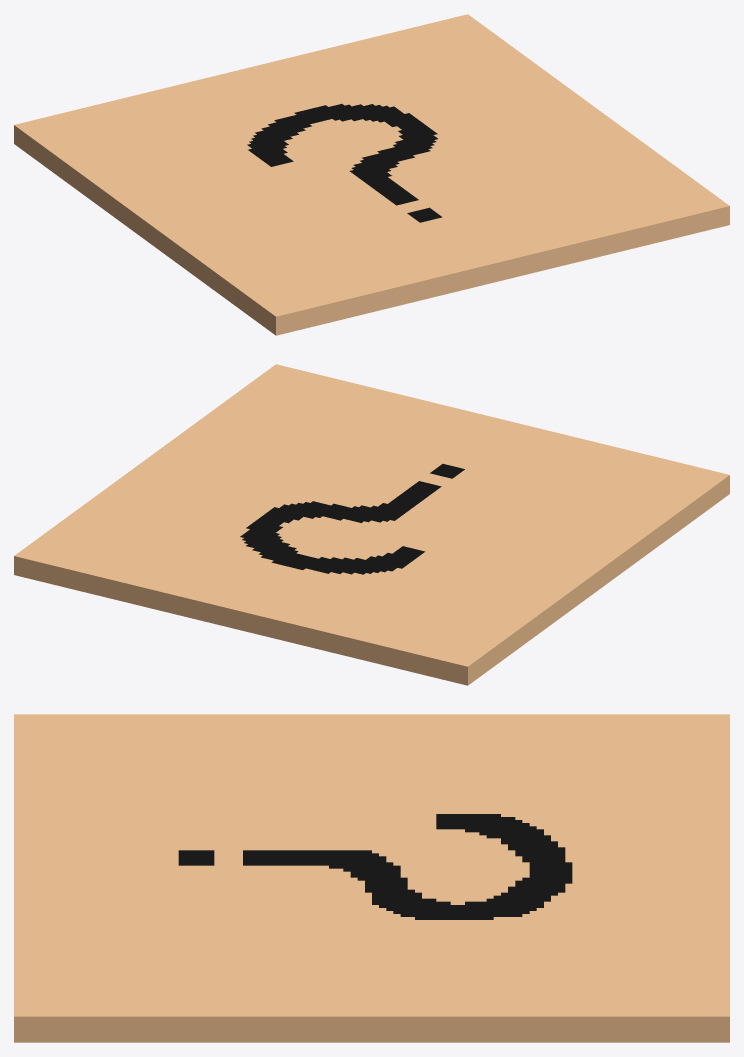
File: Unexplored.obj
3 views of the same model, one above another, from view 1: azimuth 30°, elevation 25°; view 2: azimuth 150°, elevation 25°; view 3: azimuth 270°, elevation 25° (orthographic). The views are drawn at different scales.
Bounding box in the file's own units: 10 × 0.4 × 10.
1 material, 1 textured.
